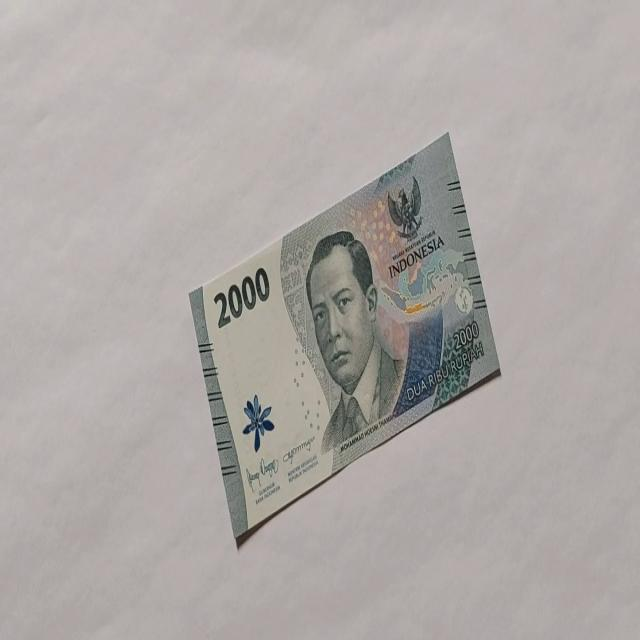dua ribu rupiah: (188, 130, 502, 544), (304, 228, 406, 456)
